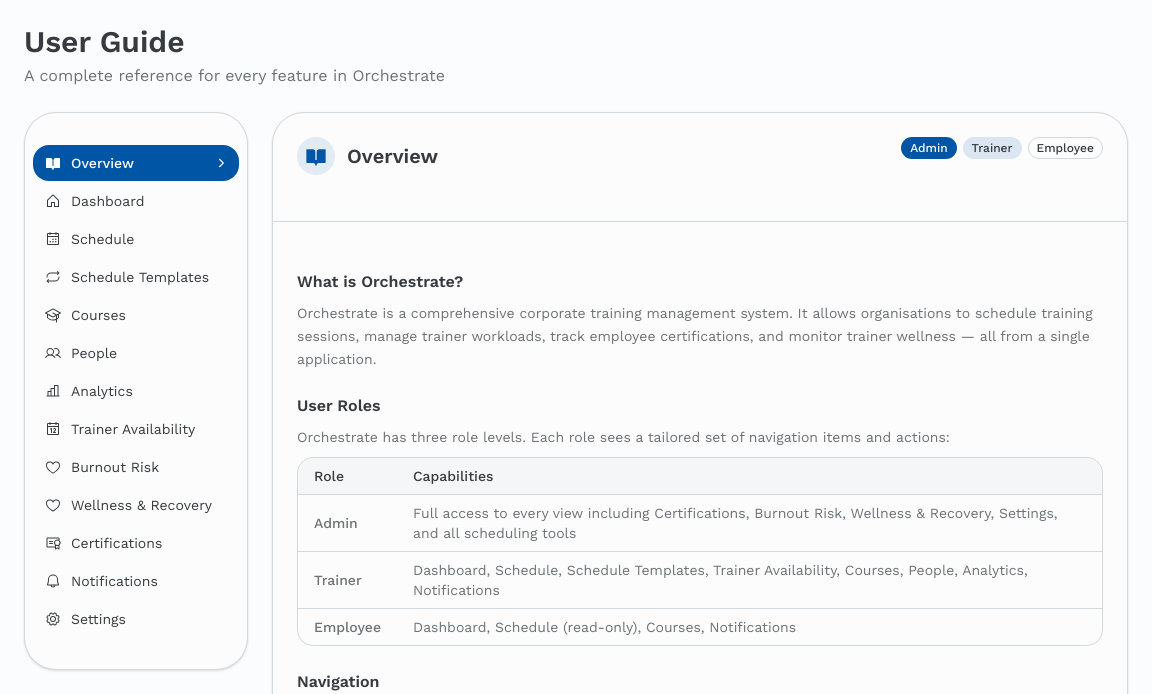
Test: UserGuide › renders Dashboard section content with all subsections
Click the button "Dashboard" at (136, 201), box [33,183,239,219]
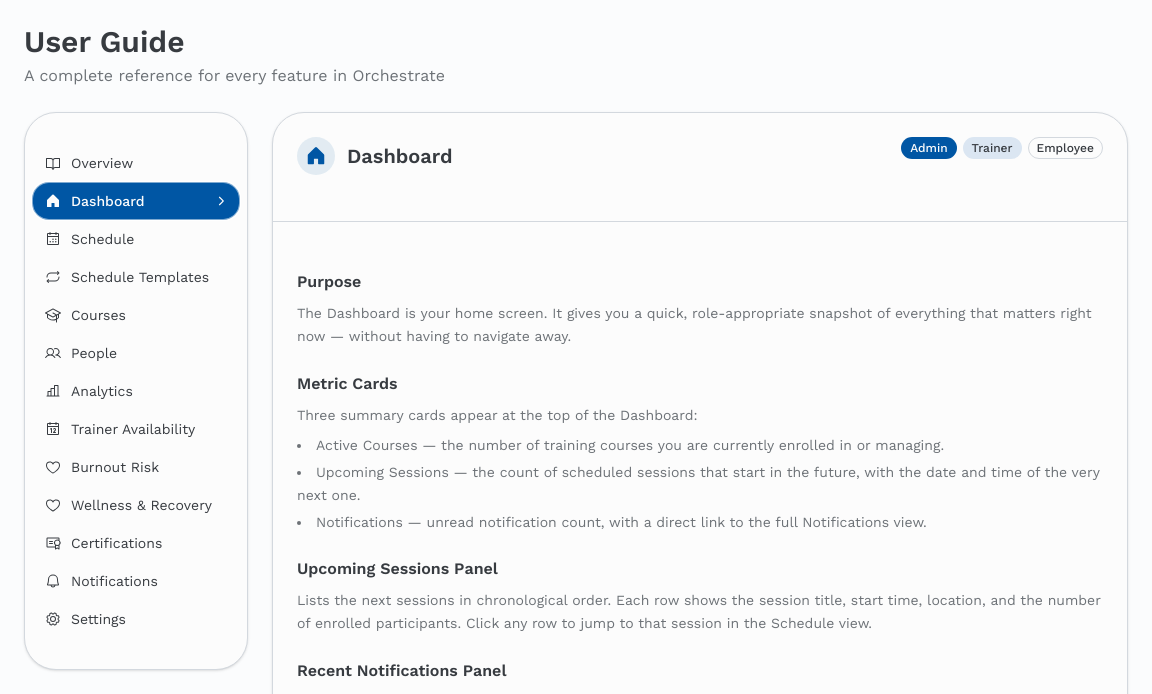
Now the heading "Metric Cards" is shown, box [297,374,398,392]
Now the heading "Upcoming Sessions Panel" is shown, box [297,559,498,578]
Now the heading "Recent Notifications Panel" is shown, box [297,661,506,680]
